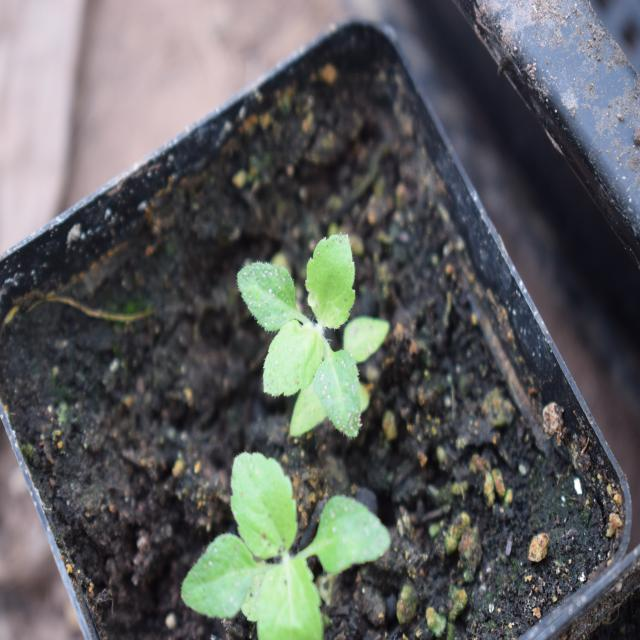billygoat_weed: (172, 456, 402, 625), (237, 230, 397, 438)
